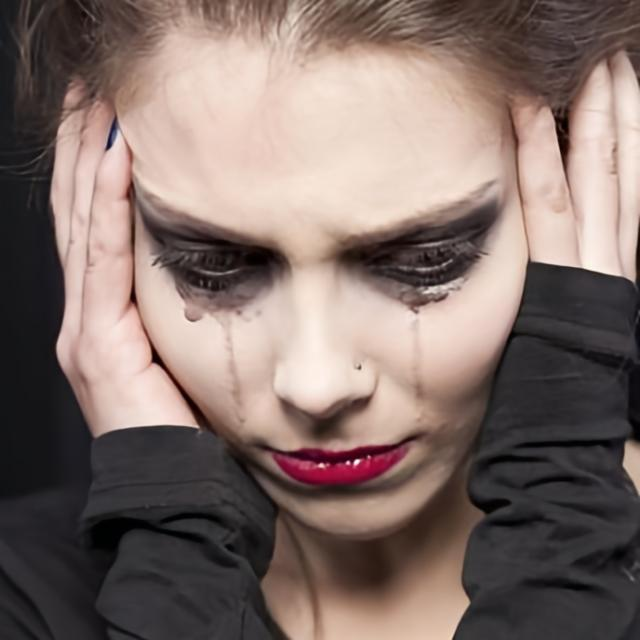sad: (134, 50, 532, 548)
